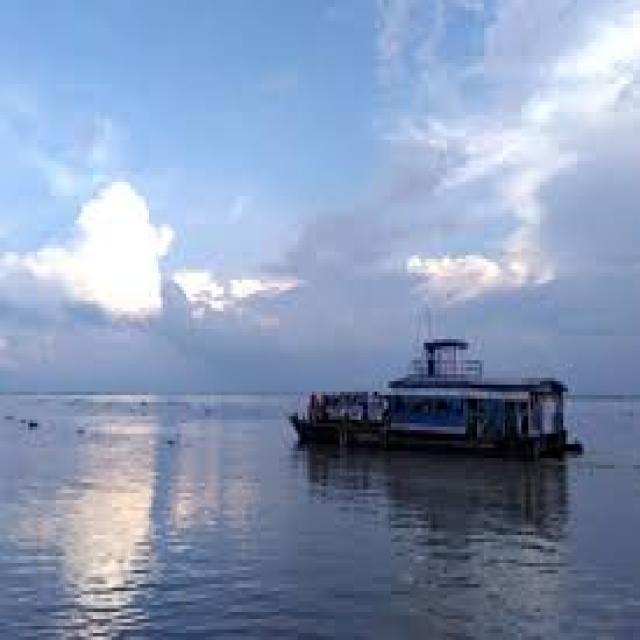fishing boat: (288, 330, 572, 460)
